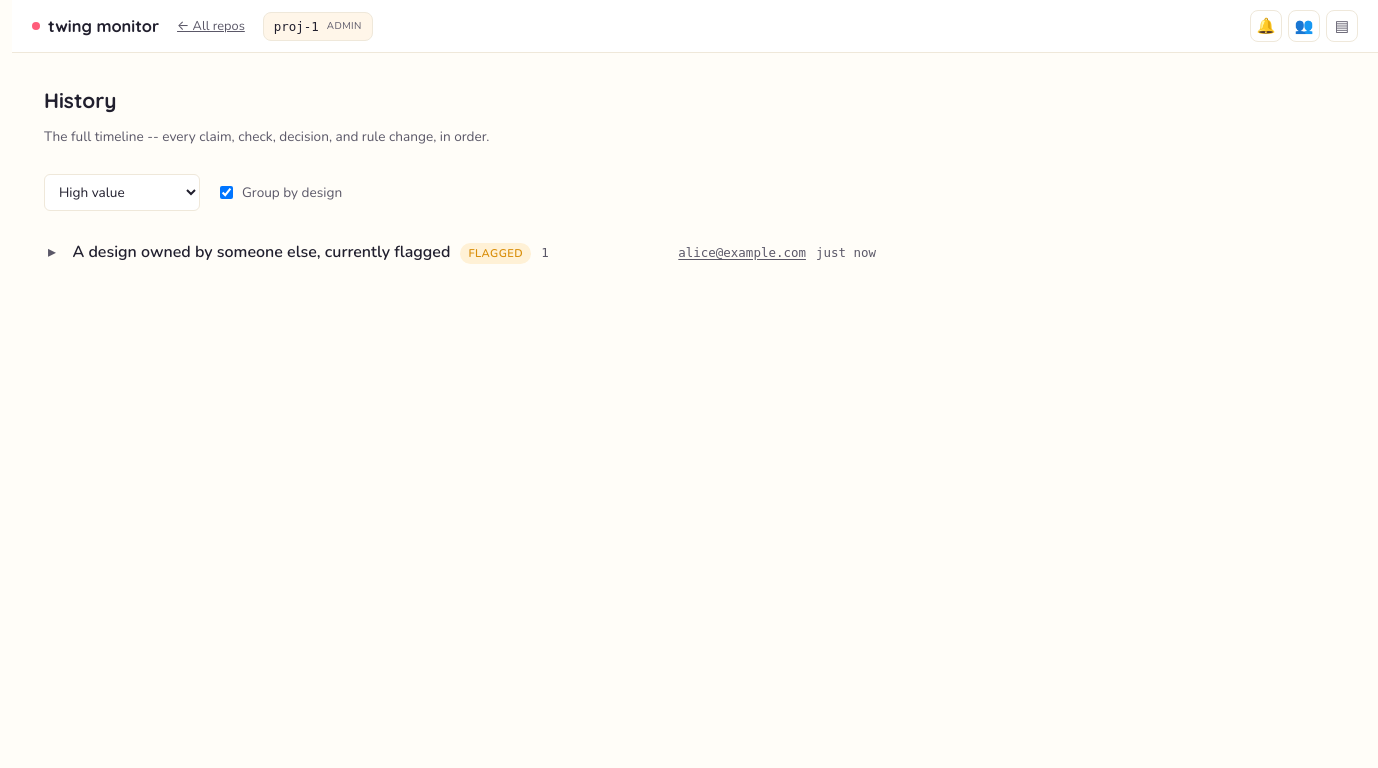
Test case: RepoDetailLayout › clicking 'View design ->' on an Activity row switches to the unified list with that design selected
Click the button "A design owned by someone else, currently flagged" at (358, 252), box [48,241,668,264]
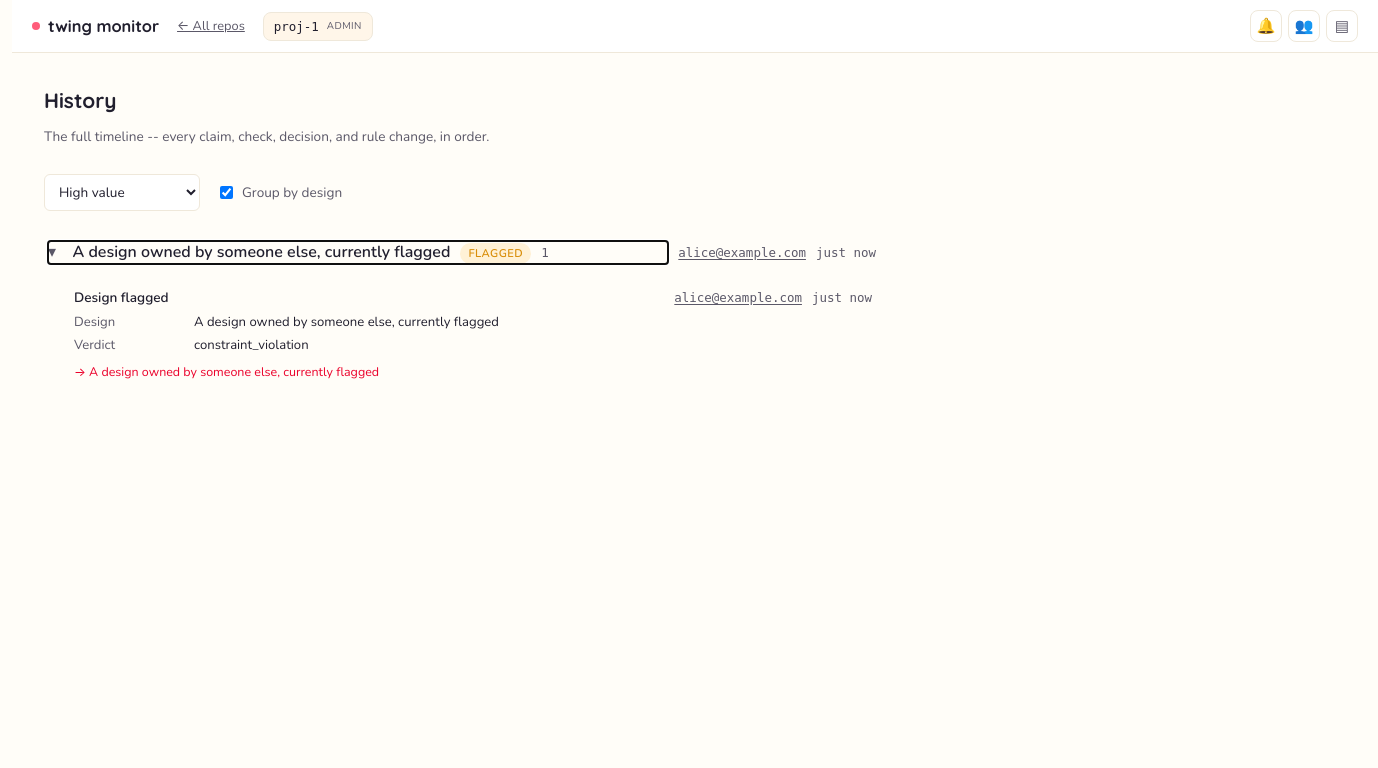
Click the button "→ A design owned by someone else, currently flagged" at (227, 372), box [74,363,379,380]
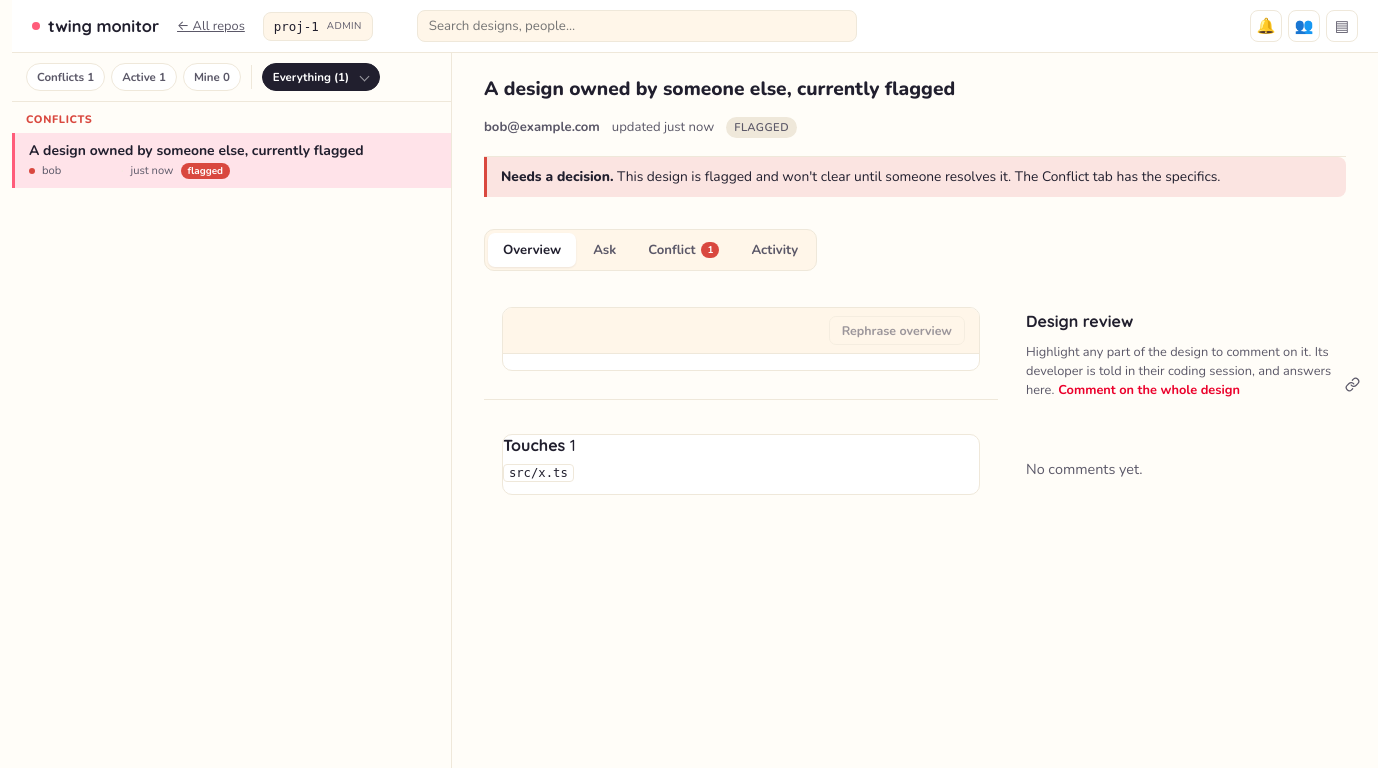
Expected: the 2nd text "A design owned by someone else, currently flagged" is shown, [29,142,364,161]
Expected: the text "src/x.ts" is shown, [503,464,574,482]
